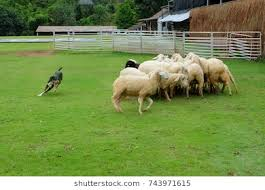sheep: (109, 69, 161, 113), (204, 55, 236, 96), (183, 55, 207, 100), (160, 70, 194, 100)
